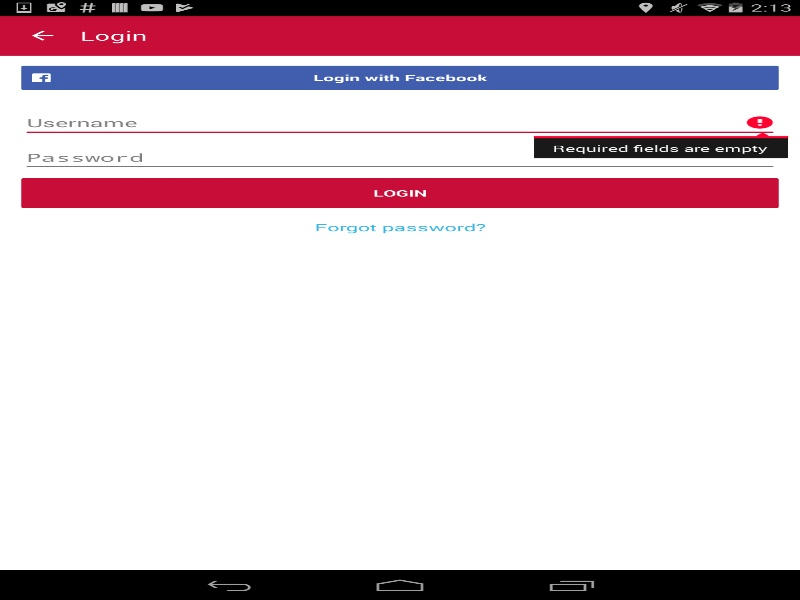Button: (21, 178, 778, 208), (21, 65, 778, 90), (0, 18, 74, 53)
Input: (21, 108, 778, 137), (21, 143, 778, 171)
